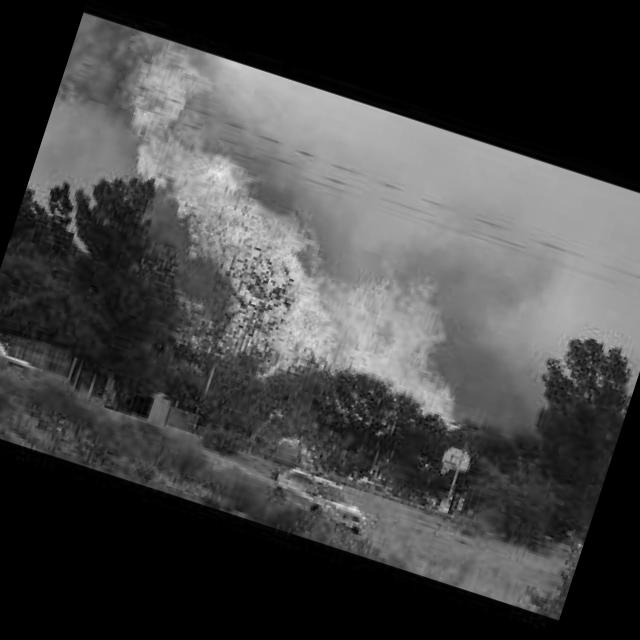fire: (0, 12, 553, 438)
